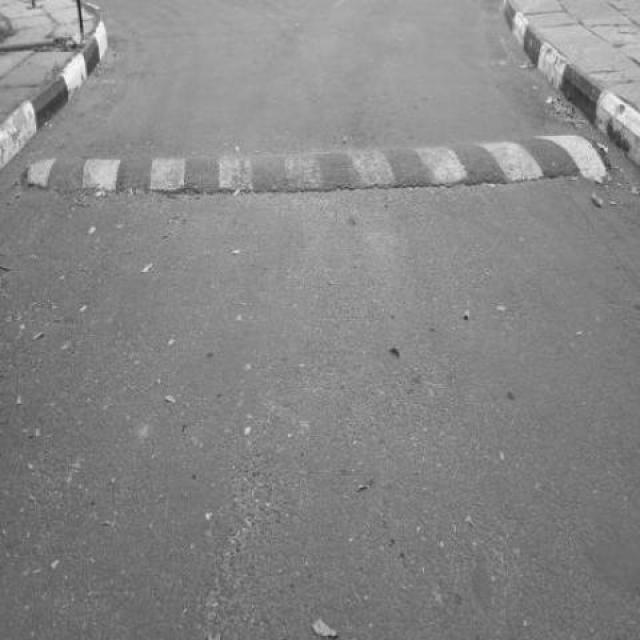Speed Bump: (23, 128, 606, 203)
